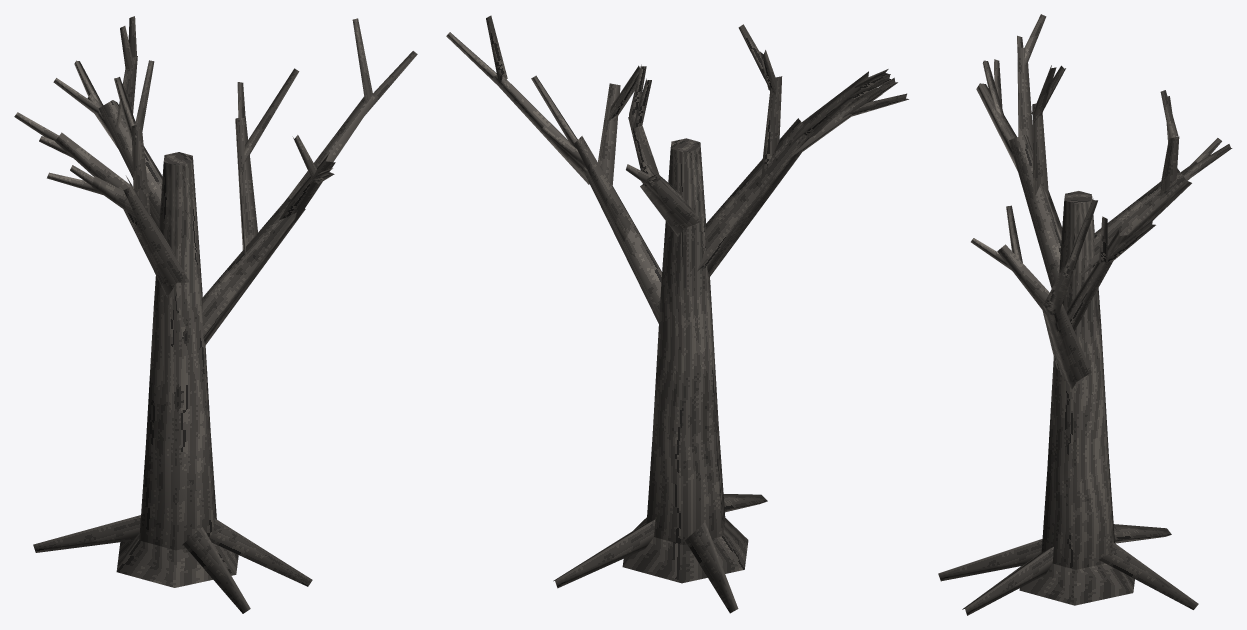
The model's file is trees.glb.
The picture shows the model from 3 angles, left to right: view 1: azimuth 30°, elevation 25°; view 2: azimuth 150°, elevation 25°; view 3: azimuth 270°, elevation 25°; orthographic projection. The views are drawn at different scales.
Visible parts, largest first — view 1: tree-0001-mesh-0; view 2: tree-0001-mesh-0; view 3: tree-0001-mesh-0.
Boxes of the visible parts, x1,y1,x2,y2 form: tree-0001-mesh-0: [14, 16, 417, 613]; tree-0001-mesh-0: [446, 15, 908, 613]; tree-0001-mesh-0: [938, 14, 1232, 615].
Bounding box in the file's own units: 5.72 × 6.82 × 3.66.
1 material, 1 textured.
